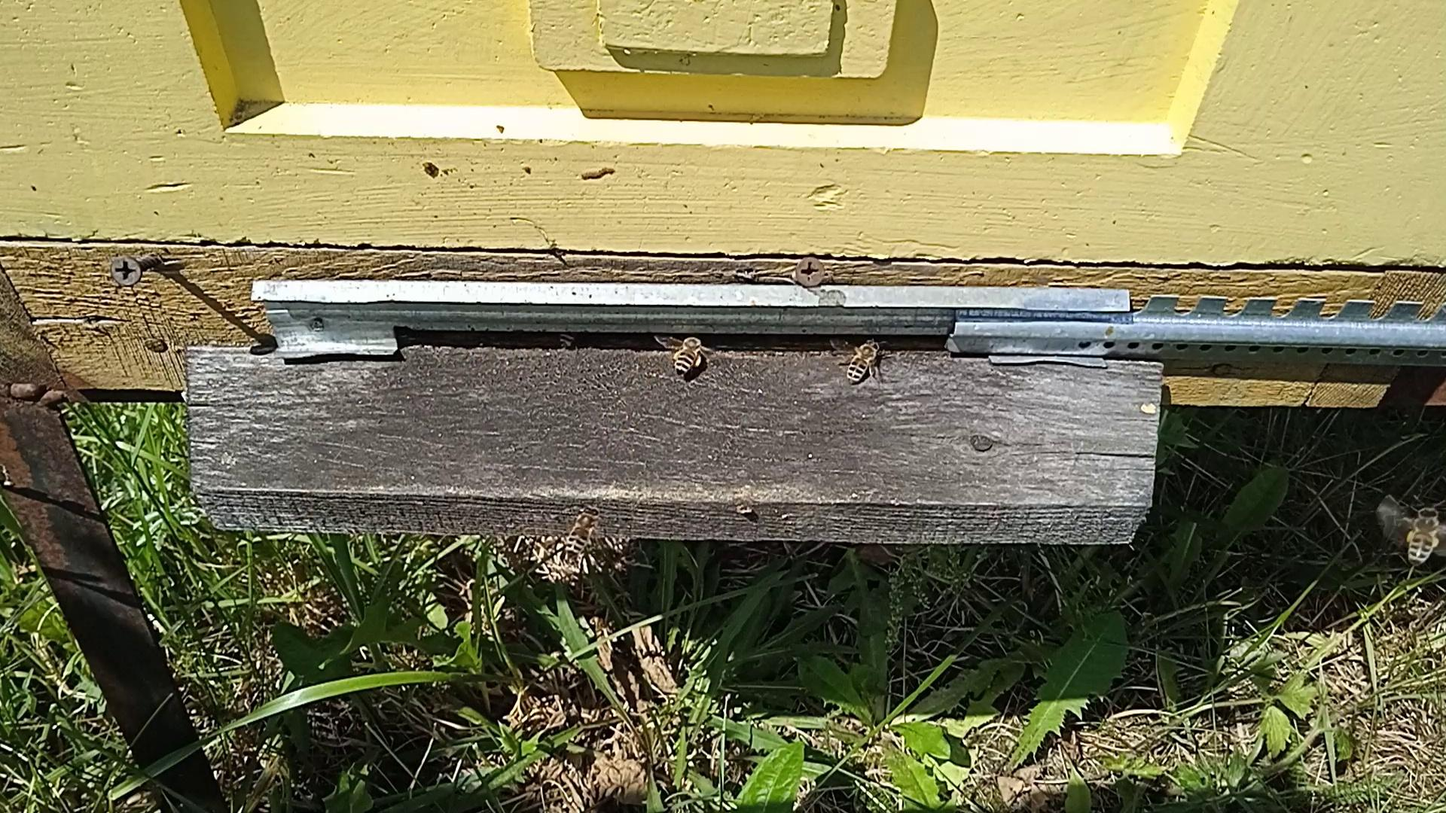worker-bee: (1405, 504, 1442, 566), (845, 339, 883, 385), (567, 505, 600, 555), (669, 334, 706, 376), (555, 331, 580, 350)
